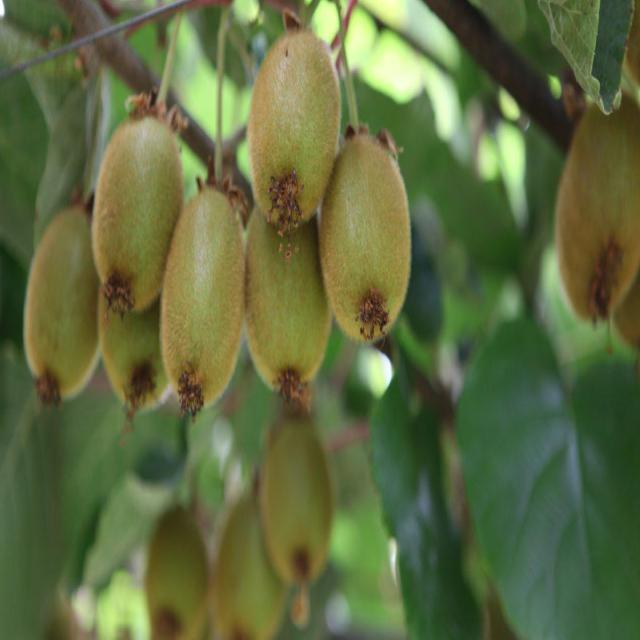kiwi: (247, 21, 350, 247), (159, 188, 255, 427), (317, 133, 420, 355), (236, 194, 340, 413), (551, 97, 640, 339), (93, 112, 192, 317), (22, 195, 108, 412), (255, 412, 340, 595), (91, 289, 179, 438), (211, 477, 290, 640), (138, 491, 220, 640)
